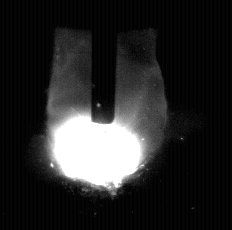arame: (92, 0, 116, 124)
poca: (46, 0, 164, 230)
